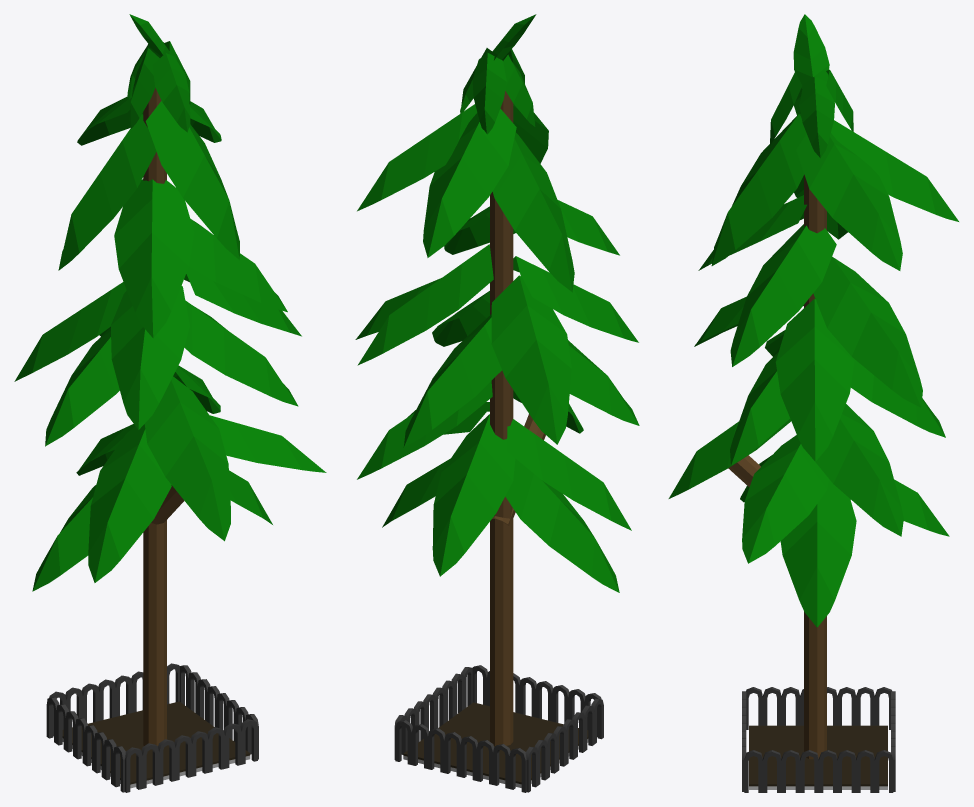
File: Prop_Tree_003.fbx
The picture shows the model from 3 angles, left to right: view 1: azimuth 30°, elevation 25°; view 2: azimuth 150°, elevation 25°; view 3: azimuth 270°, elevation 25°; orthographic projection. The views are drawn at different scales.
Visible parts, largest first — view 1: Prop_Tree_003; view 2: Prop_Tree_003; view 3: Prop_Tree_003.
Part boxes in pixels (bbox=[...]): Prop_Tree_003: bbox=[14, 14, 326, 792]; Prop_Tree_003: bbox=[355, 14, 639, 792]; Prop_Tree_003: bbox=[668, 14, 958, 792].
Size of the model in its own units: 2.22 by 5.81 by 2.09.
